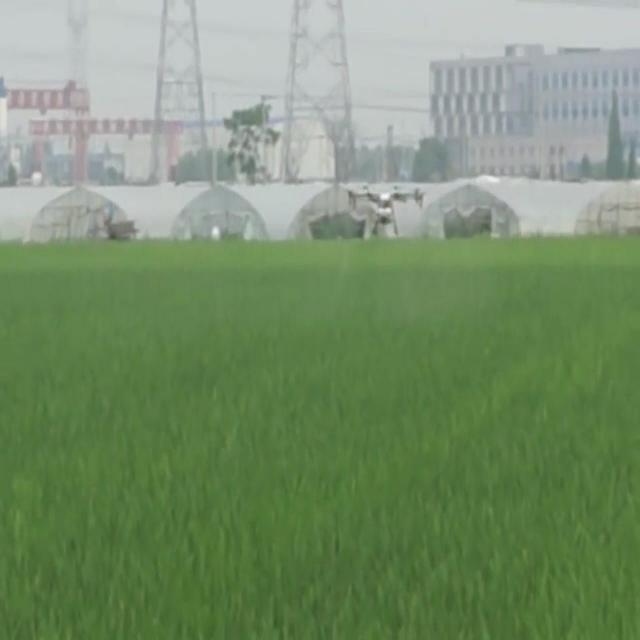UAV: (347, 185, 427, 236)
